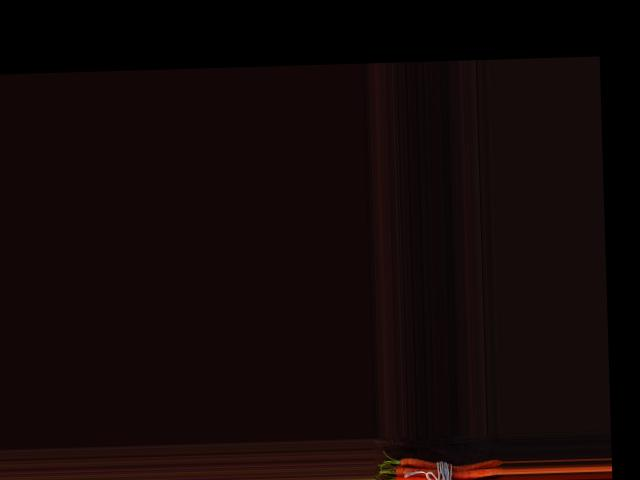carrot: (389, 452, 502, 470)
